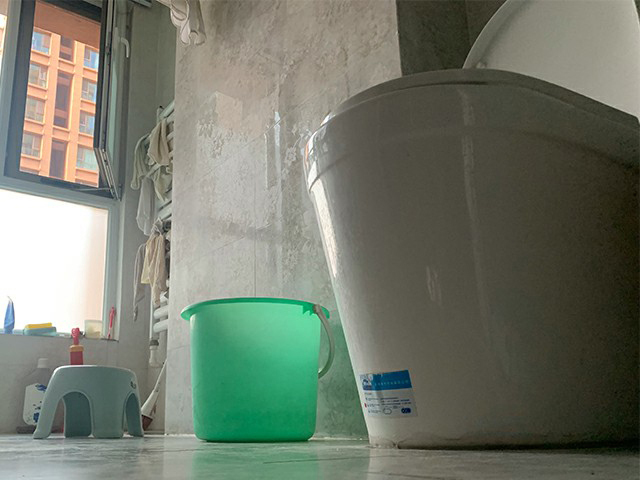closestool: (303, 1, 640, 449)
stool: (33, 363, 146, 439)
